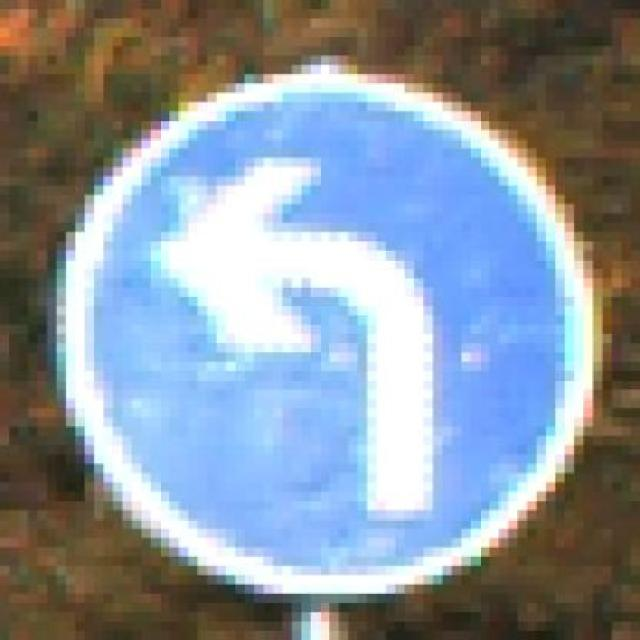Turn left ahead: (56, 55, 612, 603)
